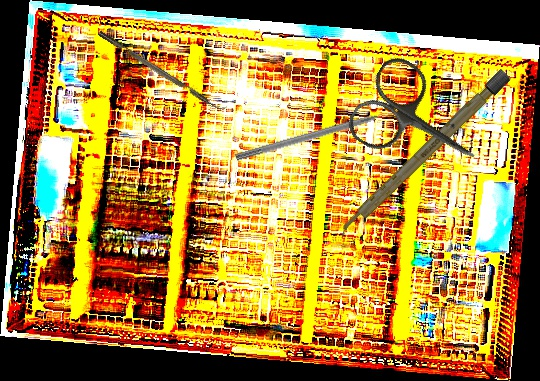Chopper: (97, 24, 229, 116)
Hook Surgical: (234, 107, 400, 163)
Iris Scissors: (341, 50, 499, 198)
Scalpel Handle: (334, 68, 512, 241)
